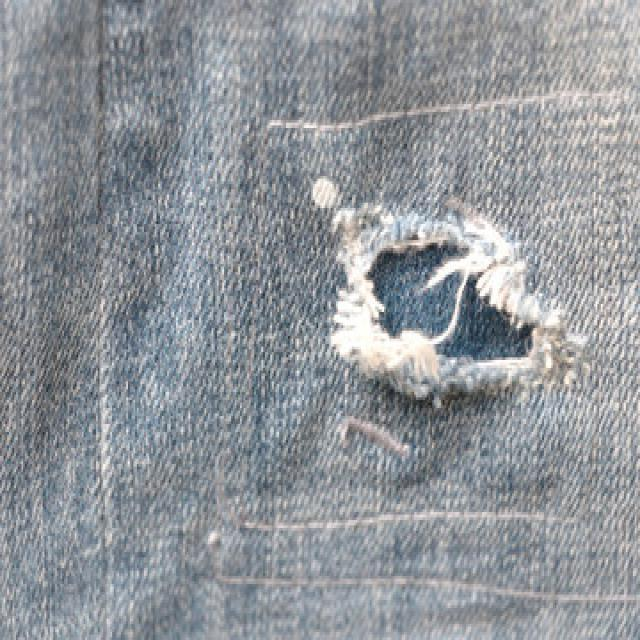Hole: (332, 206, 584, 398)
Knot: (339, 417, 410, 458)
Line: (83, 0, 113, 640), (268, 89, 626, 132), (216, 576, 640, 606), (239, 512, 576, 532)
Stain: (312, 177, 339, 208)
